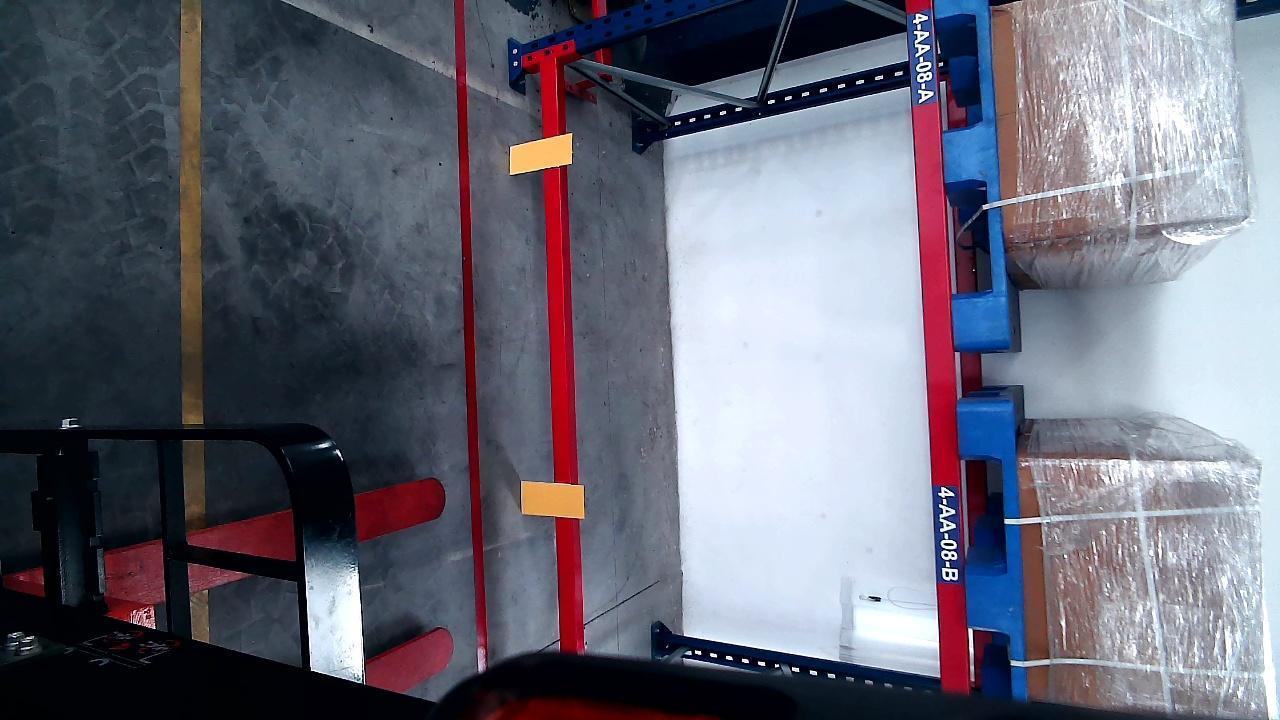h_rack: (906, 0, 967, 690), (538, 49, 580, 654)
orange_strip: (508, 133, 572, 173), (521, 479, 585, 517)
red_line: (456, 0, 489, 669)
small_pallet: (934, 0, 1008, 346), (961, 407, 1024, 693)
yellow_line: (179, 2, 205, 419)
